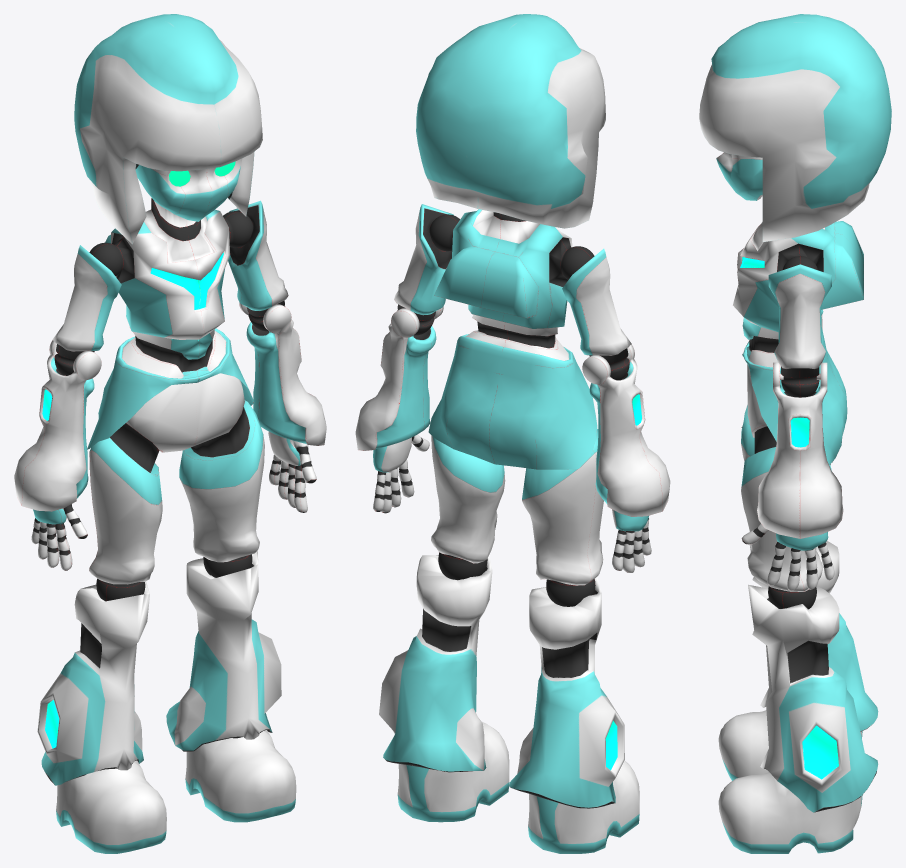
File: tutoria.glb
3 views of the same model, side by side, from view 1: azimuth 30°, elevation 25°; view 2: azimuth 150°, elevation 25°; view 3: azimuth 270°, elevation 25° (orthographic).
Parts seen in each view (by area): view 1: 1Body/Upper legs/Head; view 2: 1Body/Upper legs/Head; view 3: 1Body/Upper legs/Head.
Part boxes in pixels (x1,y1,x2,y2): 1Body/Upper legs/Head: (14, 14, 326, 853); 1Body/Upper legs/Head: (355, 14, 670, 853); 1Body/Upper legs/Head: (699, 14, 891, 853).
Size of the model in its own units: 0.6537 by 1.65 by 0.3679.
Materials: 7 (7 with a texture image).
